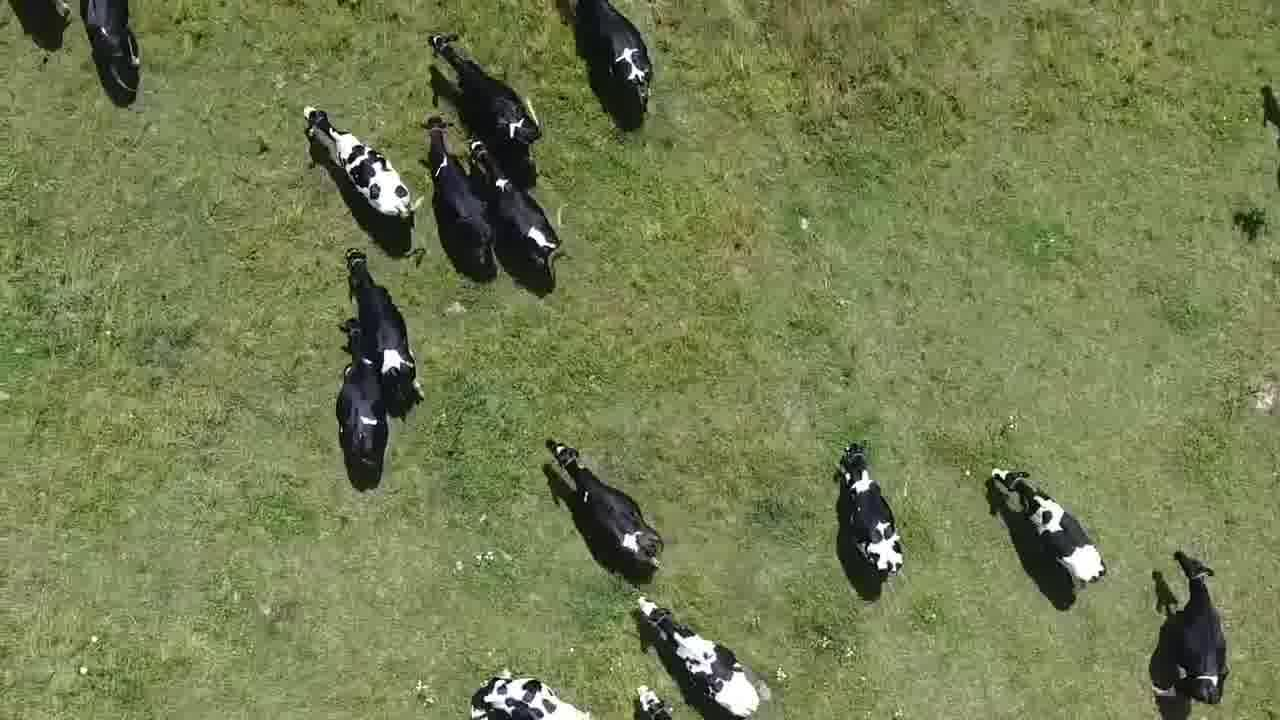cow: (542, 435, 667, 580), (633, 589, 771, 720), (988, 463, 1110, 589), (297, 101, 418, 228), (468, 137, 565, 291), (341, 246, 429, 407), (425, 30, 543, 149), (418, 116, 499, 277), (568, 0, 659, 126), (1165, 546, 1234, 706), (834, 435, 911, 578), (333, 313, 393, 489), (74, 0, 148, 97), (465, 674, 600, 720), (634, 679, 671, 719)
